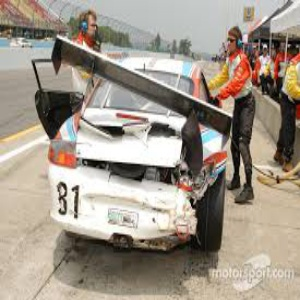bumper: (106, 173, 202, 254)
tail_lights: (166, 157, 225, 194)
